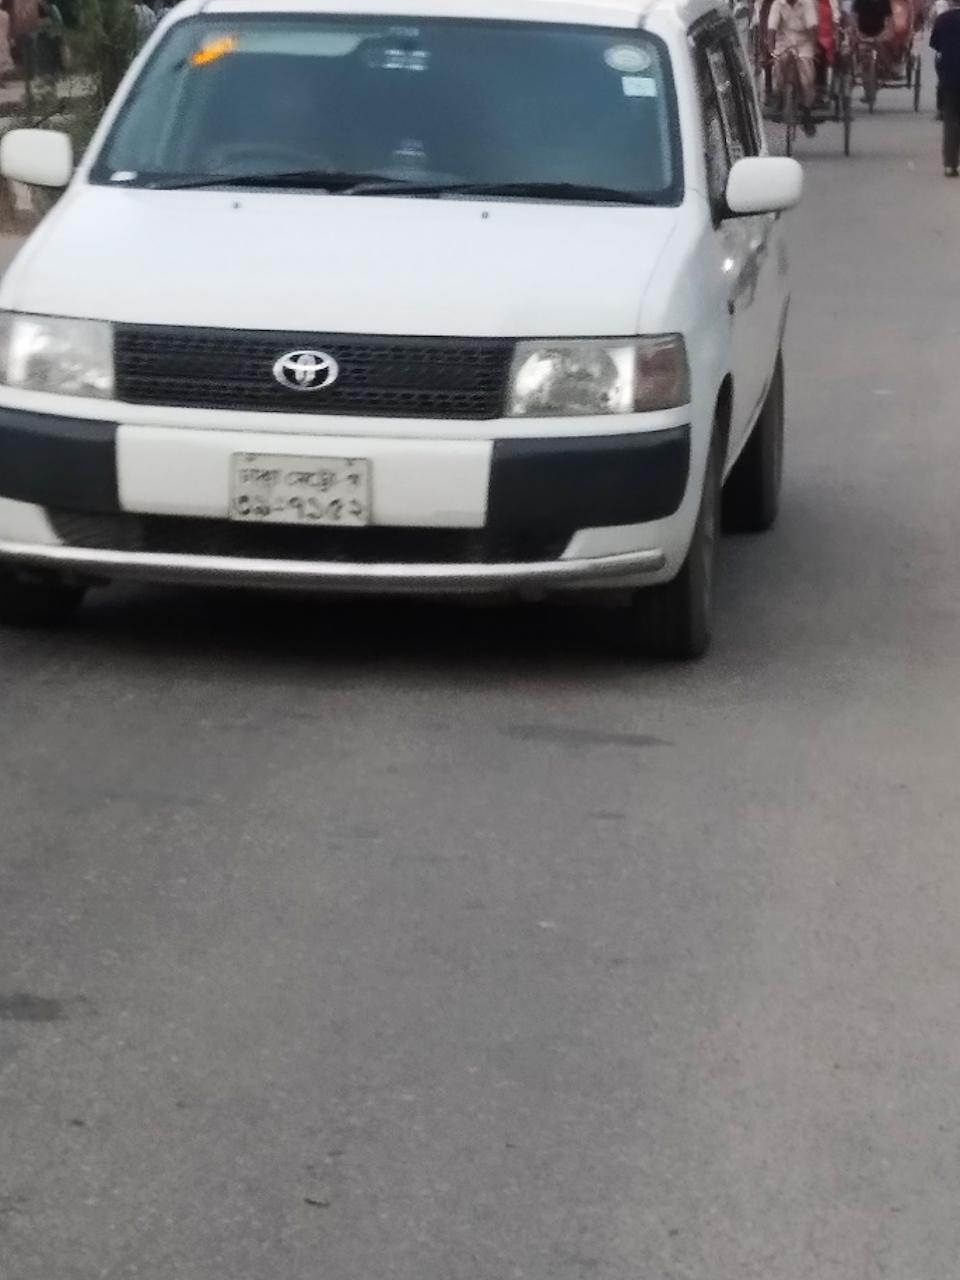registration_plate: (229, 452, 373, 528)
